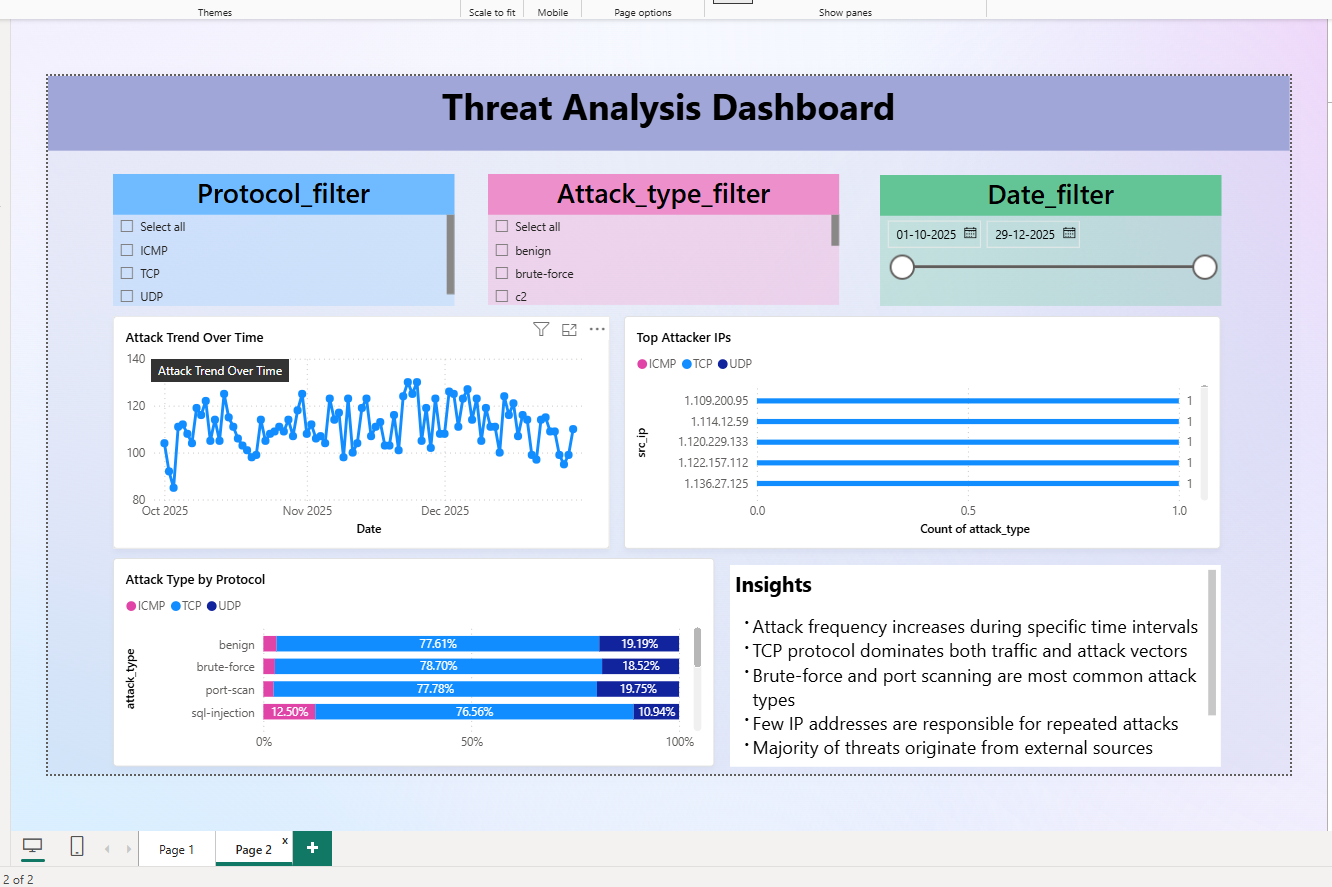

The page's visual inventory and layout, read from the dashboard file:
{"tool":"powerbi","page":{"name":"Page 2","canvas":[1280,720],"ordinal":1},"visuals":[{"type":"textbox","box":[0,0,1279.8,76.9],"z":0},{"type":"slicer","title":"Protocol_filter","fields":{"Values":["cybersecurity.protocol"]},"box":[67,101,351.5,136.1],"z":1000},{"type":"slicer","title":"Attack_type_filter","fields":{"Values":["cybersecurity.attack_type"]},"box":[453.6,101,361.9,135.1],"z":2000},{"type":"slicer","title":"Date_filter","fields":{"Values":["cybersecurity.Date"]},"box":[857.7,102.1,351.5,135.1],"z":3000},{"type":"lineChart","title":"Attack Trend Over Time","fields":{"Y":["CountNonNull(cybersecurity.attack_type)"],"Category":["cybersecurity.Date"]},"box":[67,247.4,512.4,240.2],"z":4000},{"type":"hundredPercentStackedBarChart","title":"Attack Type by Protocol","fields":{"Category":["cybersecurity.attack_type"],"Series":["cybersecurity.protocol"],"Y":["CountNonNull(cybersecurity.attack_type)"]},"box":[67,496.9,619.6,215.5],"z":5000},{"type":"clusteredBarChart","title":"Top Attacker IPs","fields":{"Category":["cybersecurity.src_ip"],"Y":["CountNonNull(cybersecurity.attack_type)"],"Series":["cybersecurity.protocol"]},"box":[593.8,247.4,615.5,240.2],"z":6000},{"type":"textbox","box":[703.1,504.1,506.2,208.2],"z":6001}]}

Visuals, with their boxes on the page's 1280x720 design canvas (x1, y1, x2, y2). These are canvas units, not pixel positions in the 1332x887 screenshot, which may show the page scaled, cropped or inside an application window:
textbox: [0, 0, 1280, 77]
"Protocol_filter" slicer: [67, 101, 418, 237]
"Attack_type_filter" slicer: [454, 101, 816, 236]
"Date_filter" slicer: [858, 102, 1209, 237]
"Attack Trend Over Time" lineChart: [67, 247, 579, 488]
"Attack Type by Protocol" hundredPercentStackedBarChart: [67, 497, 687, 712]
"Top Attacker IPs" clusteredBarChart: [594, 247, 1209, 488]
textbox: [703, 504, 1209, 712]
